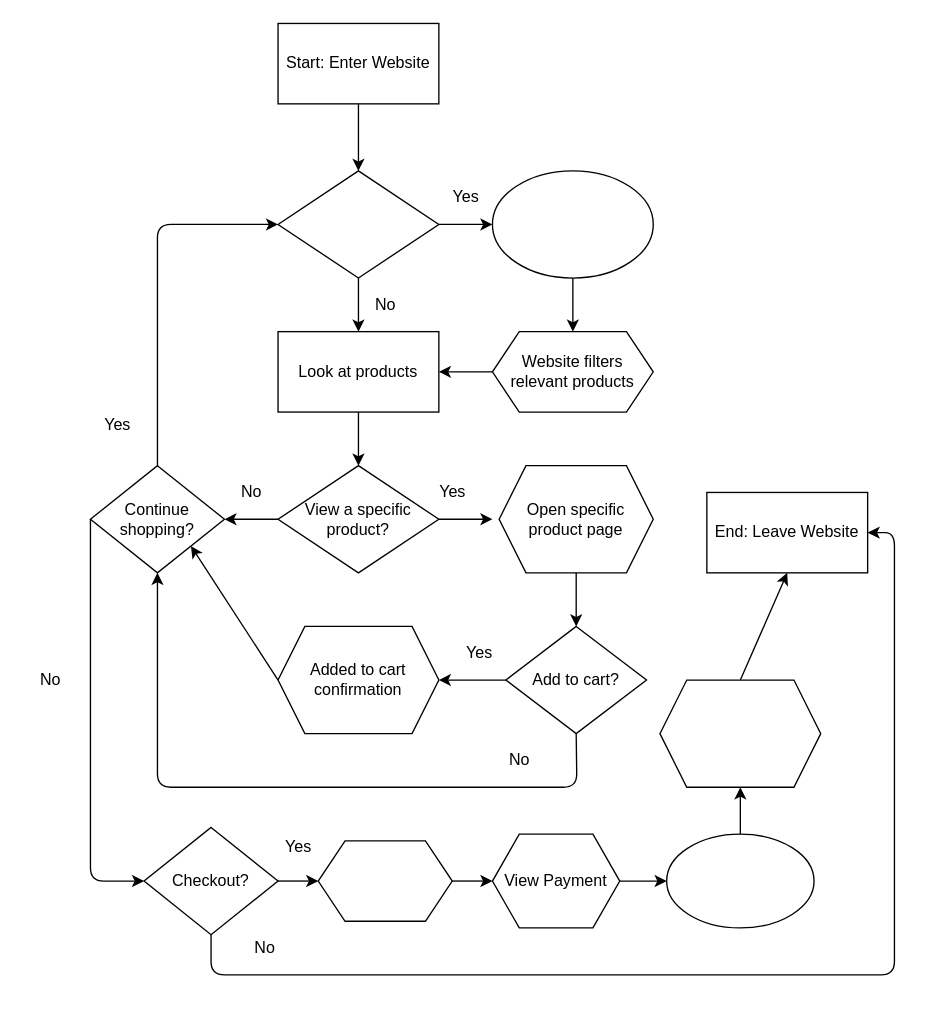
The diagram is 929 pixels wide and 1009 high, and some of its shapes have lost their labels. The shapes that lost their labels are listed below. From the top down, each one's centre as x and y in pixels, then its label:
point (358, 224): Search for product
point (572, 224): Provide input for a specific product
point (740, 733): Order & email confirtmation
point (384, 880): View Cart
point (739, 880): Input Payment
